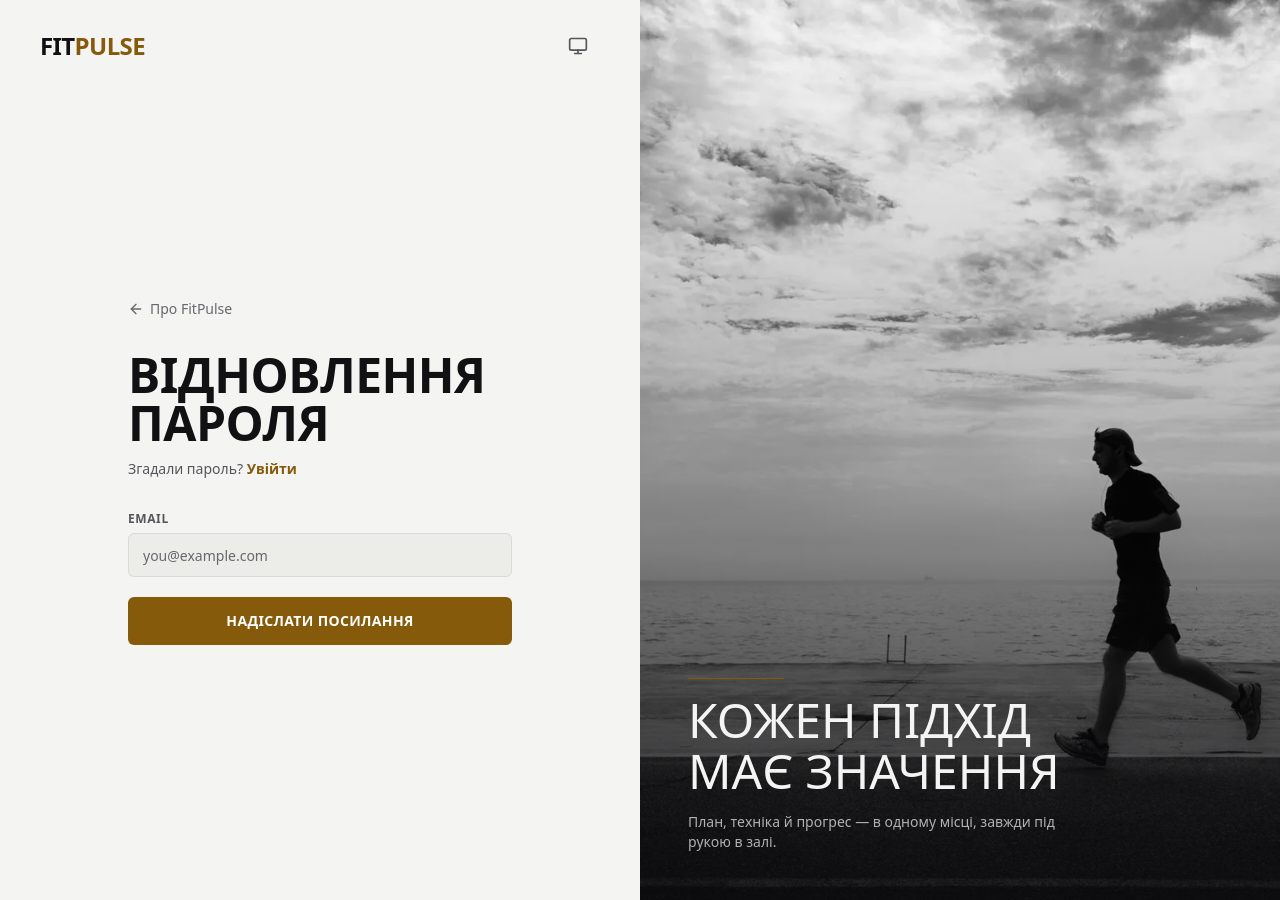
Test: ForgotPasswordPage › forgot page shows the confirmation after sending
The image size is (1280, 900).
Type "ira@mail.com" into the field labelled "Email" at (320, 555), box [128,533,512,577]
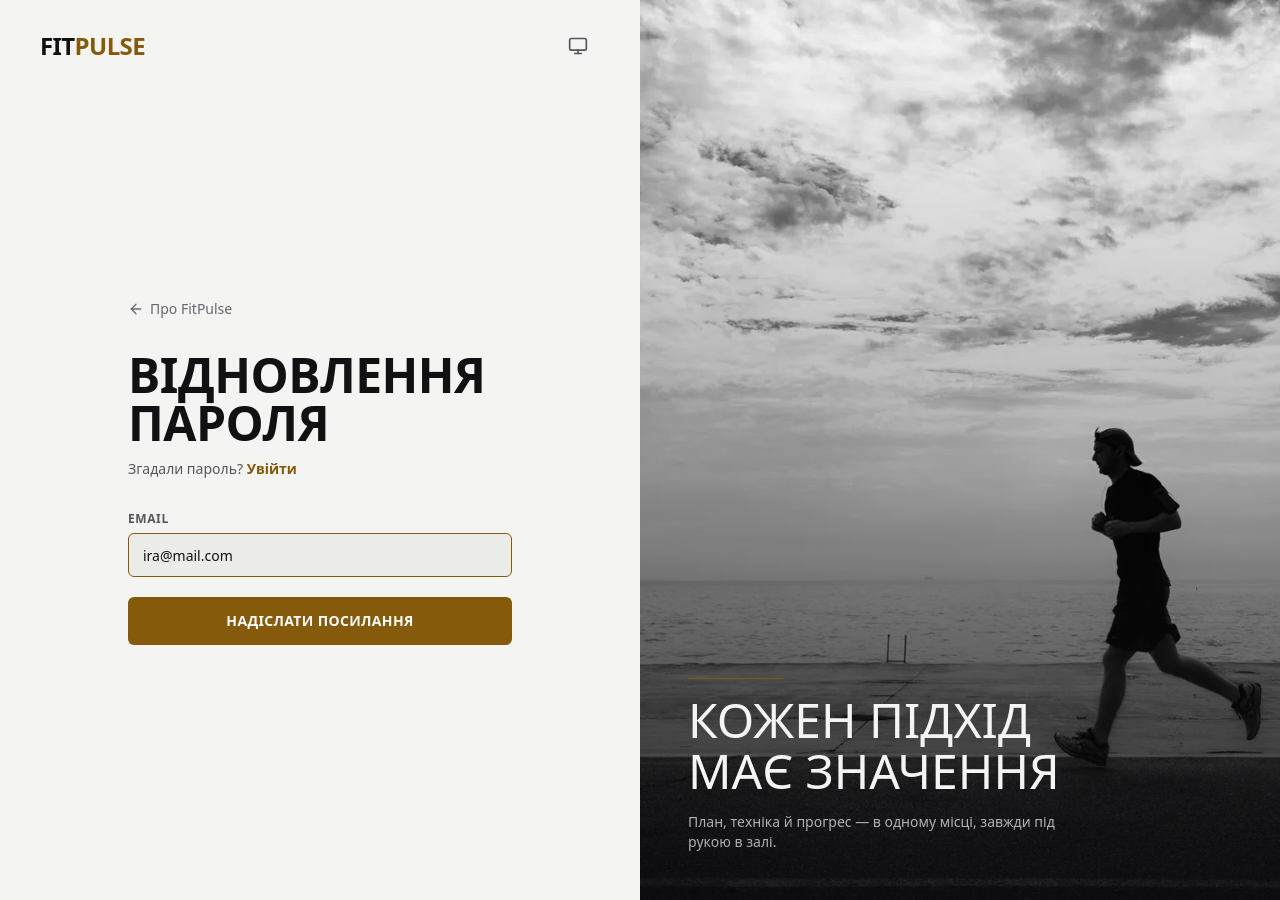
Click the button "Надіслати посилання" at (320, 621), box [128,597,512,645]
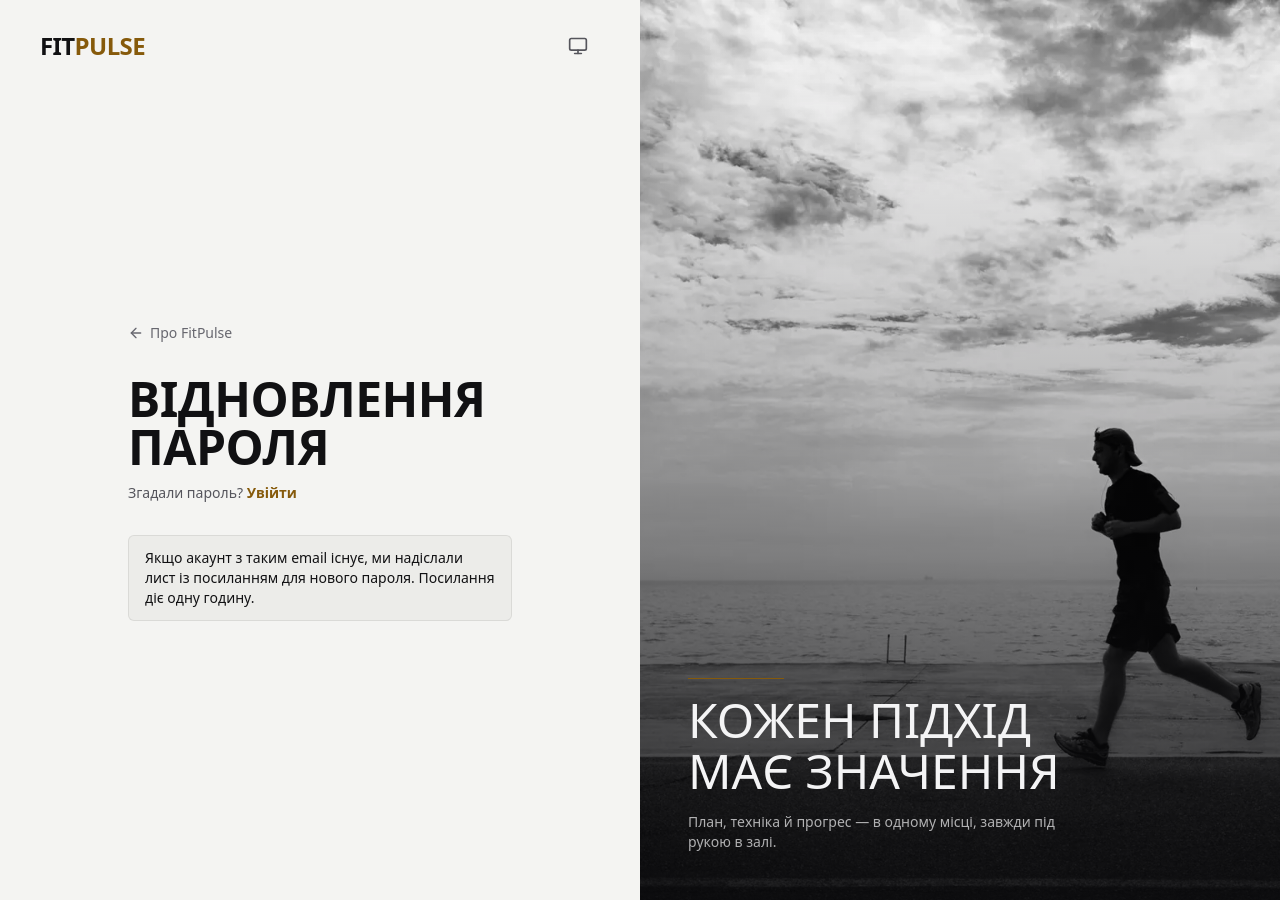
Expected: the text "Якщо акаунт з таким email існує, ми надіслали лист" is shown, [145,548,494,607]
